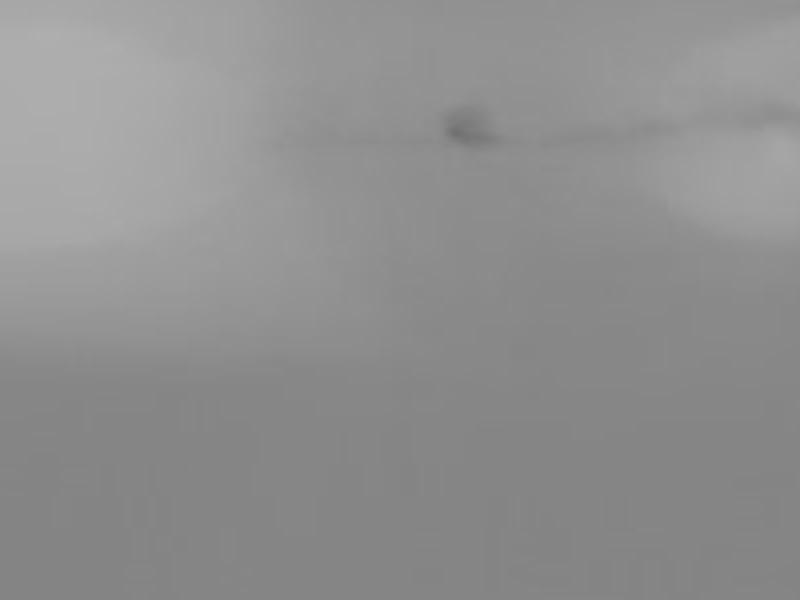defect: (449, 105, 495, 151)
